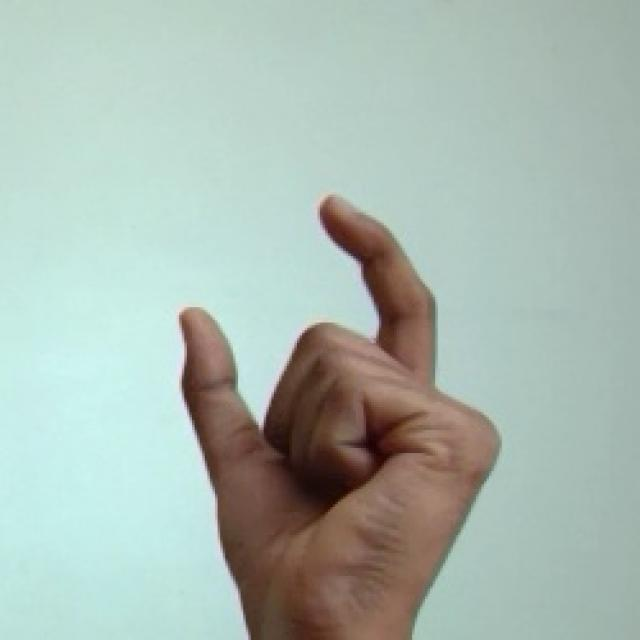Alphabet-U: (144, 171, 547, 640)
